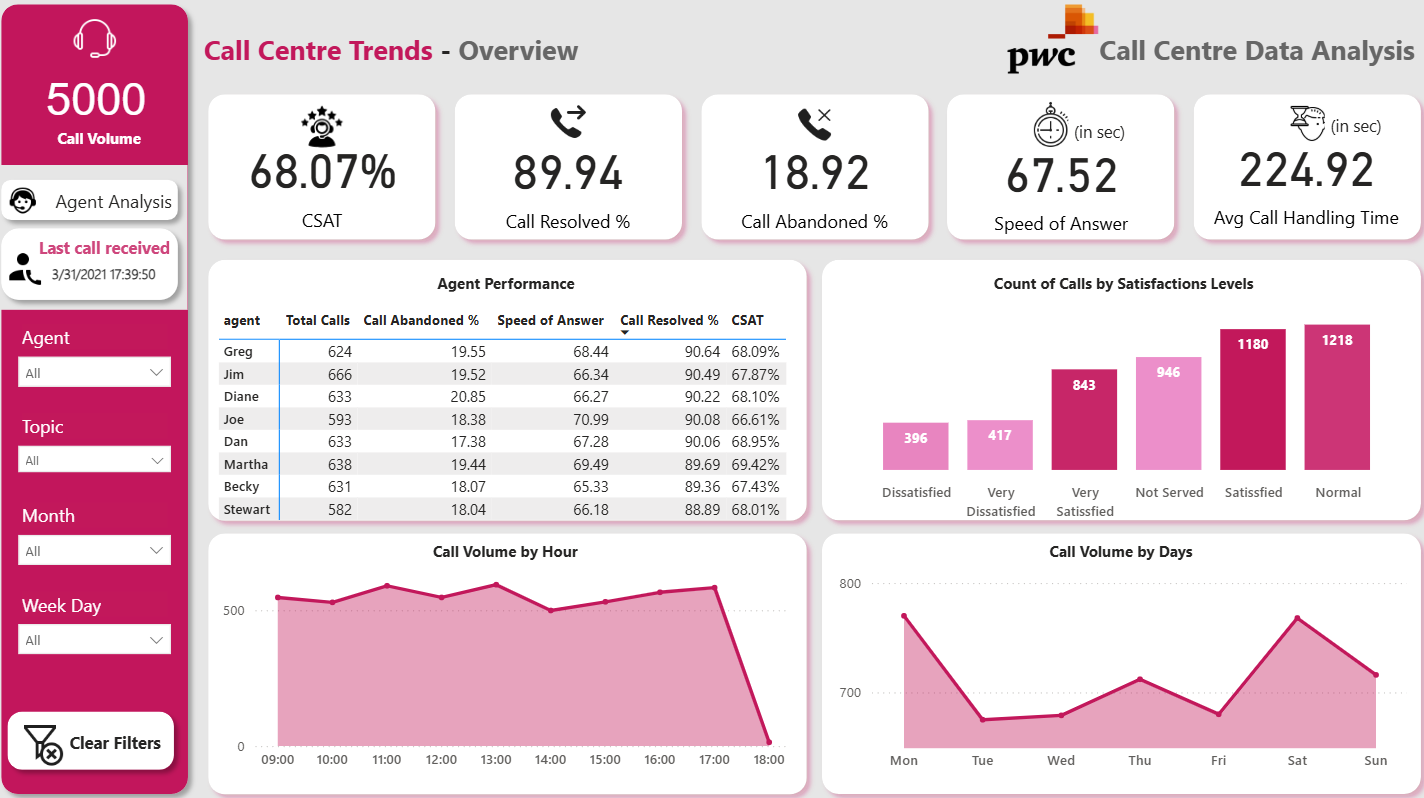

Layout of this report page (visuals, bound fields, positions):
{"tool":"powerbi","page":{"name":"Dashboard","canvas":[1280,720],"ordinal":1},"visuals":[{"type":"shape","box":[0,0,184,720],"z":0,"group":"g1"},{"type":"group","id":"g1","title":"BG","box":[0,0,1280,720],"z":0},{"type":"shape","box":[184,79.9,220,147.2],"z":0,"group":"g2"},{"type":"slicer","title":"Agent","fields":{"Values":["calls.agent"]},"box":[14.5,288.2,155,80],"z":0,"group":"g3"},{"type":"image","box":[58.2,14.5,67.3,50.9],"z":1000},{"type":"shape","box":[403,79.9,220,147.2],"z":1000,"group":"g2"},{"type":"shape","box":[184,227.1,550,250],"z":1000,"group":"g1"},{"type":"slicer","title":"Topic","fields":{"Values":["calls.topic"]},"box":[14.5,367.3,155,80],"z":1000,"group":"g3"},{"type":"shape","box":[622,79.9,220,147.2],"z":2000,"group":"g2"},{"type":"cardVisual","fields":{"Data":["measeure_table.total calls"]},"box":[199.7,130.7,172.8,79.7],"z":2000,"group":"g1"},{"type":"slicer","title":"Month","fields":{"Values":["calls.Month YY"]},"box":[14.5,446.4,155,80],"z":2000,"group":"g3"},{"type":"textbox","box":[184,26.9,357.3,53],"z":3000,"group":"g1"},{"type":"shape","box":[841,79.9,220,147.2],"z":3000,"group":"g2"},{"type":"slicer","title":"Week Day","fields":{"Values":["calls.Day Name"]},"box":[14.5,525.5,155,80],"z":3000,"group":"g3"},{"type":"image","box":[897.8,0,91.6,79.9],"z":4000,"group":"g1"},{"type":"shape","box":[1060,79.9,220,147.2],"z":4000,"group":"g2"},{"type":"textbox","box":[967.8,26.9,302.5,53],"z":5000,"group":"g1"},{"type":"group","id":"g2","title":"Group 1","box":[184,79.9,1096,147.2],"z":6000,"group":"g1"},{"type":"cardVisual","fields":{"Data":["measeure_table.CSAT"]},"box":[200,128.2,189.1,88.2],"z":6000},{"type":"shape","box":[729.7,227.1,550.3,249.6],"z":7000,"group":"g1"},{"type":"pivotTable","fields":{"Rows":["calls.agent"],"Values":["measeure_table.Total Calls","measeure_table.call abandoned %","measeure_table.Speed of Answer","measeure_table.call resolved %","measeure_table.CSAT"]},"box":[196.4,275.5,520.9,204.5],"z":7000},{"type":"shape","box":[184,470,550,250],"z":8000,"group":"g1"},{"type":"lineChart","fields":{"Category":["calls.Hour"],"Y":["measeure_table.Total Calls"]},"box":[200,508.2,515.5,190.9],"z":8000},{"type":"shape","box":[729.7,470.4,550.3,249.6],"z":9000,"group":"g1"},{"type":"lineChart","fields":{"Category":["calls.Day Name"],"Y":["measeure_table.Total Calls"]},"box":[748.2,508.2,515.5,191.8],"z":9000},{"type":"shape","box":[7.9,152.3,167,128.7],"z":10000,"group":"g1"},{"type":"clusteredColumnChart","fields":{"Category":["calls.Satisfactions Level"],"Y":["measeure_table.Total Calls"]},"box":[746.4,260,515.5,215.5],"z":10000},{"type":"shape","box":[0,199.3,175.1,81.7],"z":11000,"group":"g1"},{"type":"advanceCardE03760C5AB684758B56AA29F9E6C257B","fields":{"mainMeasure":["measeure_table.Last call"]},"box":[48.2,232.7,106.4,30.9],"z":11000},{"type":"shape","box":[0,156.2,175.1,53.9],"z":12000,"group":"g1"},{"type":"group","id":"g3","title":"Slicers","box":[14.5,288.2,155,317.3],"z":12000},{"type":"advanceCardE03760C5AB684758B56AA29F9E6C257B","fields":{"mainMeasure":["measeure_table.Total Calls"]},"box":[22.7,58.2,141.8,70],"z":13000},{"type":"shape","box":[5.3,628.9,165.9,69.8],"z":13000,"group":"g1"},{"type":"textbox","box":[44.5,113.6,102.7,28.2],"z":13001},{"type":"cardVisual","fields":{"Data":["measeure_table.call resolved %"]},"box":[418.2,130.9,189.1,85.5],"z":13002},{"type":"cardVisual","fields":{"Data":["measeure_table.call abandoned %"]},"box":[637.3,130.9,189.1,85.5],"z":13003},{"type":"cardVisual","fields":{"Data":["measeure_table.Speed of Answer"]},"box":[856.4,130.9,189.1,90],"z":13004},{"type":"cardVisual","fields":{"Data":["measeure_table.Avg Call Handling Time"]},"box":[1067.3,124.5,204.5,91.8],"z":13005},{"type":"textbox","box":[957.3,107.3,65.5,30.9],"z":13006},{"type":"textbox","box":[1185.5,101.8,65.5,30.9],"z":13007},{"type":"textbox","box":[330,242.7,258.2,27.3],"z":13008,"group":"g1"},{"type":"textbox","box":[877.3,242.7,258.2,27.3],"z":13008},{"type":"textbox","box":[307.3,480,300,28.2],"z":13009},{"type":"textbox","box":[863.6,480,284.5,28.2],"z":13010,"group":"g1"},{"type":"image","box":[15.5,639.1,57.1,51.8],"z":14000,"group":"g1"},{"type":"textbox","box":[64.5,649.1,100,31.8],"z":15000,"group":"g1"},{"type":"textbox","box":[9.9,210.1,154.4,32.3],"z":16000,"group":"g1"},{"type":"image","box":[5.4,220.8,45.8,43.1],"z":17000,"group":"g1"},{"type":"textbox","box":[9.8,167,156.2,32.4],"z":18000,"group":"g1"},{"type":"image","title":"Agent","box":[8.8,166,39.3,33.4],"z":19000,"group":"g1"},{"type":"image","box":[262.5,90.5,62.5,53.4],"z":20000,"group":"g1"},{"type":"image","box":[482.5,89.6,58.8,48.9],"z":21000,"group":"g1"},{"type":"image","box":[708.3,94.1,46.2,43.2],"z":22000,"group":"g1"},{"type":"image","box":[917.5,90.4,50.1,50.1],"z":23000,"group":"g1"},{"type":"image","box":[1149.1,92.7,42.5,46.2],"z":24000,"group":"g1"}]}

Visuals, with their boxes in screenshot pixels (x1, y1, x2, y2), scaled from the page's 1280x720 canvas onto the 1424x798 screenshot:
shape: 0 0 205 797
"BG" group: 0 0 1423 797
shape: 205 89 449 252
"Agent" slicer: 16 319 189 408
image: 65 16 140 72
shape: 448 89 693 252
shape: 205 252 817 529
"Topic" slicer: 16 407 189 496
shape: 692 89 937 252
cardVisual - measeure_table.total calls: 222 145 414 233
"Month" slicer: 16 495 189 583
textbox: 205 30 602 89
shape: 936 89 1180 252
"Week Day" slicer: 16 582 189 671
image: 999 0 1101 89
shape: 1179 89 1423 252
textbox: 1077 30 1413 89
"Group 1" group: 205 89 1423 252
cardVisual - measeure_table.CSAT: 222 142 433 240
shape: 812 252 1423 528
pivotTable - calls.agent x measeure_table.Total Calls: 218 305 798 532
shape: 205 521 817 797
lineChart - calls.Hour x measeure_table.Total Calls: 222 563 796 775
shape: 812 521 1423 797
lineChart - calls.Day Name x measeure_table.Total Calls: 832 563 1406 776
shape: 9 169 195 311
clusteredColumnChart - calls.Satisfactions Level x measeure_table.Total Calls: 830 288 1404 527
shape: 0 221 195 311
advanceCardE03760C5AB684758B56AA29F9E6C257B - measeure_table.Last call: 54 258 172 292
shape: 0 173 195 233
"Slicers" group: 16 319 189 671
advanceCardE03760C5AB684758B56AA29F9E6C257B - measeure_table.Total Calls: 25 65 183 142
shape: 6 697 190 774
textbox: 50 126 164 157
cardVisual - measeure_table.call resolved %: 465 145 676 240
cardVisual - measeure_table.call abandoned %: 709 145 919 240
cardVisual - measeure_table.Speed of Answer: 953 145 1163 245
cardVisual - measeure_table.Avg Call Handling Time: 1187 138 1415 240
textbox: 1065 119 1138 153
textbox: 1319 113 1392 147
textbox: 367 269 654 299
textbox: 976 269 1263 299
textbox: 342 532 676 563
textbox: 961 532 1277 563
image: 17 708 81 766
textbox: 72 719 183 755
textbox: 11 233 183 269
image: 6 245 57 292
textbox: 11 185 185 221
"Agent" image: 10 184 54 221
image: 292 100 362 159
image: 537 99 602 154
image: 788 104 839 152
image: 1021 100 1076 156
image: 1278 103 1326 154
